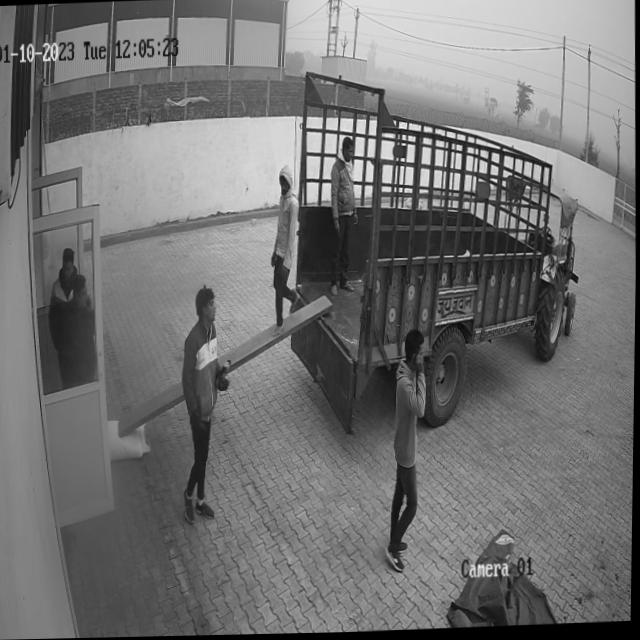sack: (107, 417, 149, 461)
